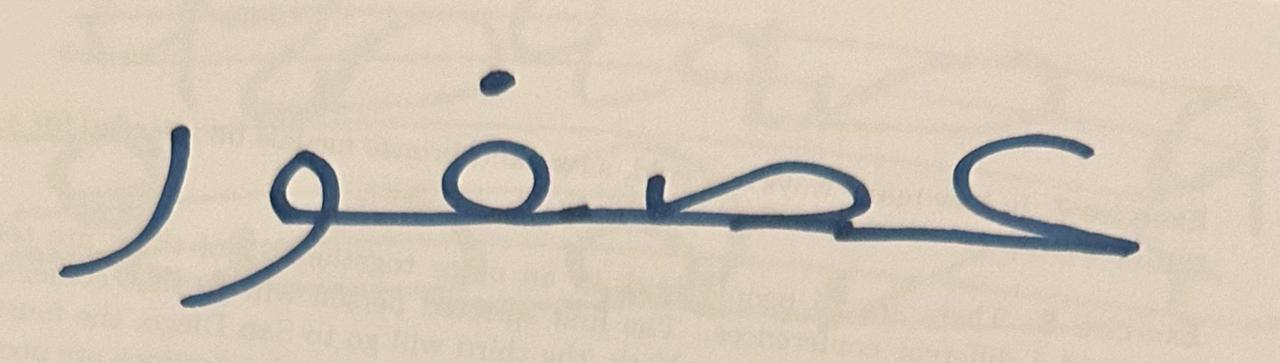ain: (892, 20, 1202, 317)
feh: (367, 17, 583, 293)
sad: (36, 71, 201, 286)
seen: (587, 35, 887, 320)
yeh: (212, 100, 362, 319)
